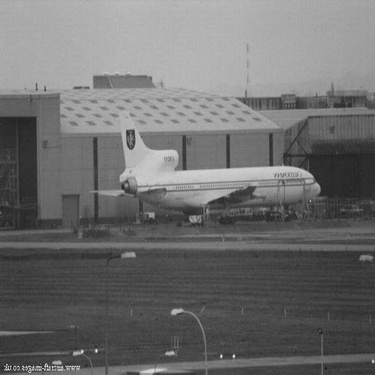airplane: (83, 117, 320, 223)
